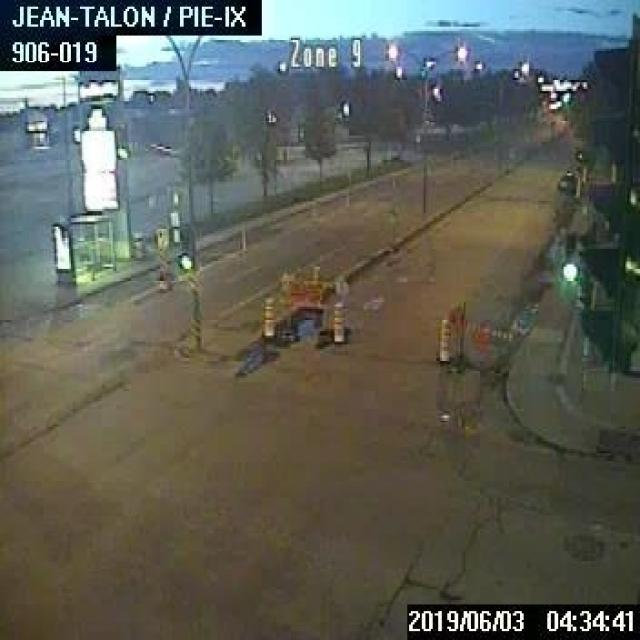construction: (276, 265, 332, 343), (446, 301, 512, 364), (258, 294, 276, 340), (330, 298, 344, 344), (435, 318, 450, 360)
vehicle: (556, 170, 574, 188)
